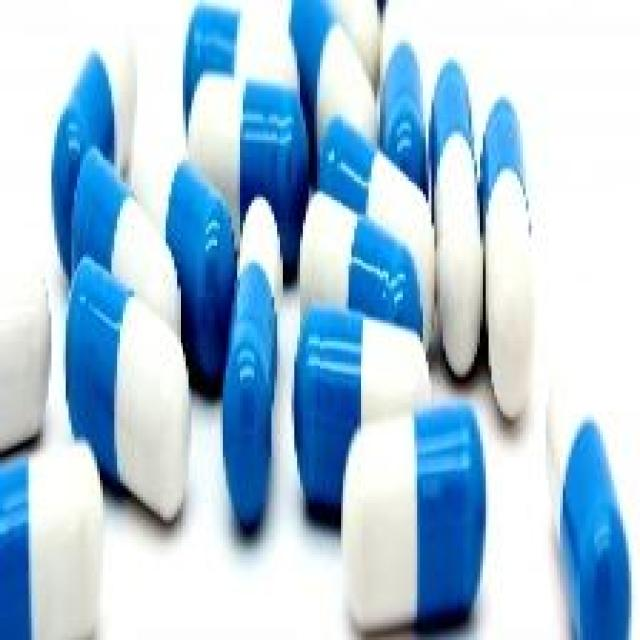Medicine: (5, 0, 640, 637)
